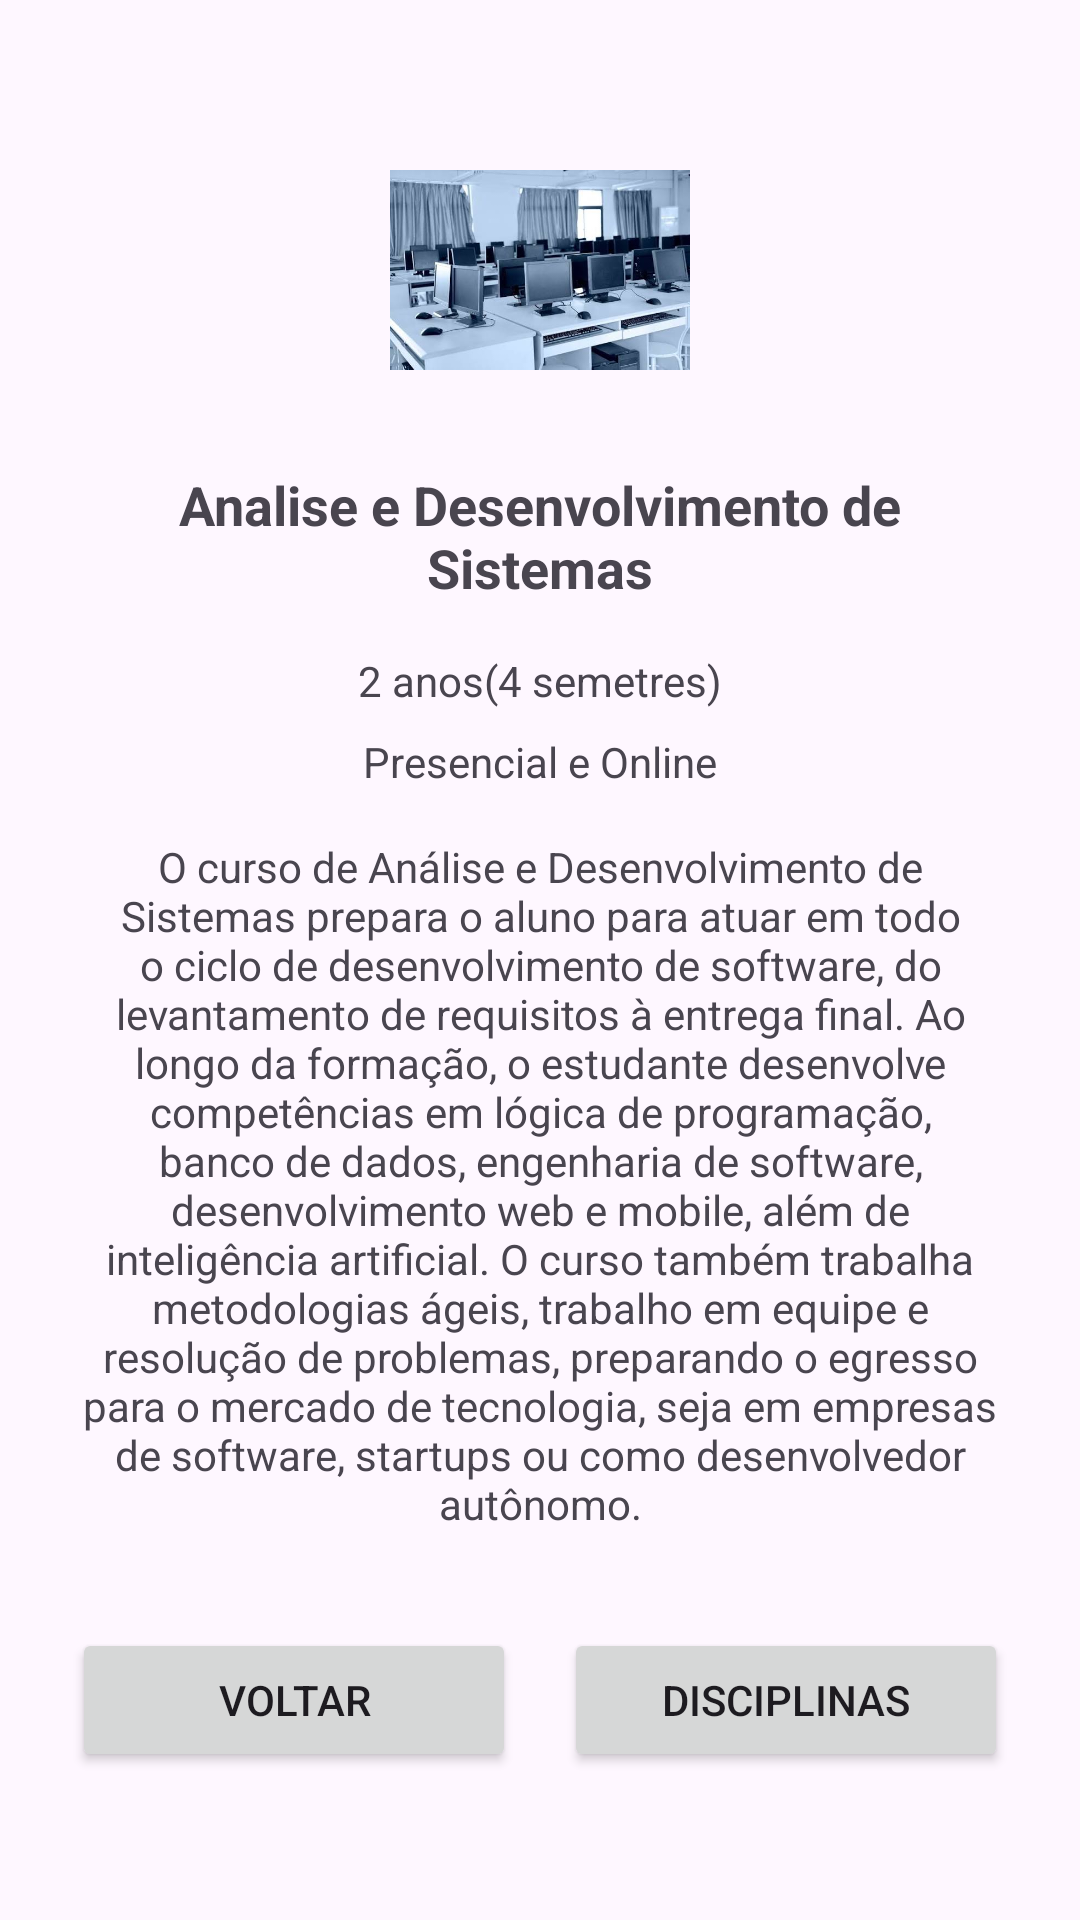

Point at icon controls on the screen. Image size 1080x1920, points as (x=x, y=y).
Imagem do curso: (x=540, y=270)
